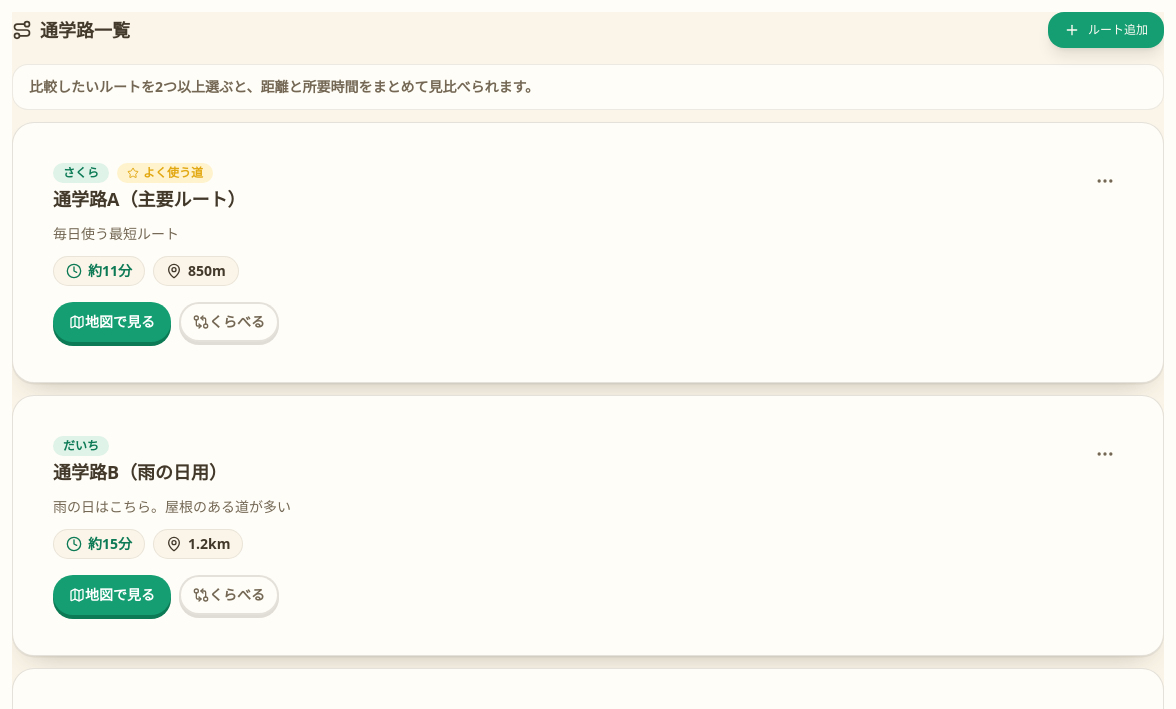
RouteManager comparison › shows a comparison section after selecting two routes
Click the button with test id "compare-route-button".
click(229, 322)  # box x1=179 y1=302 x2=279 y2=342
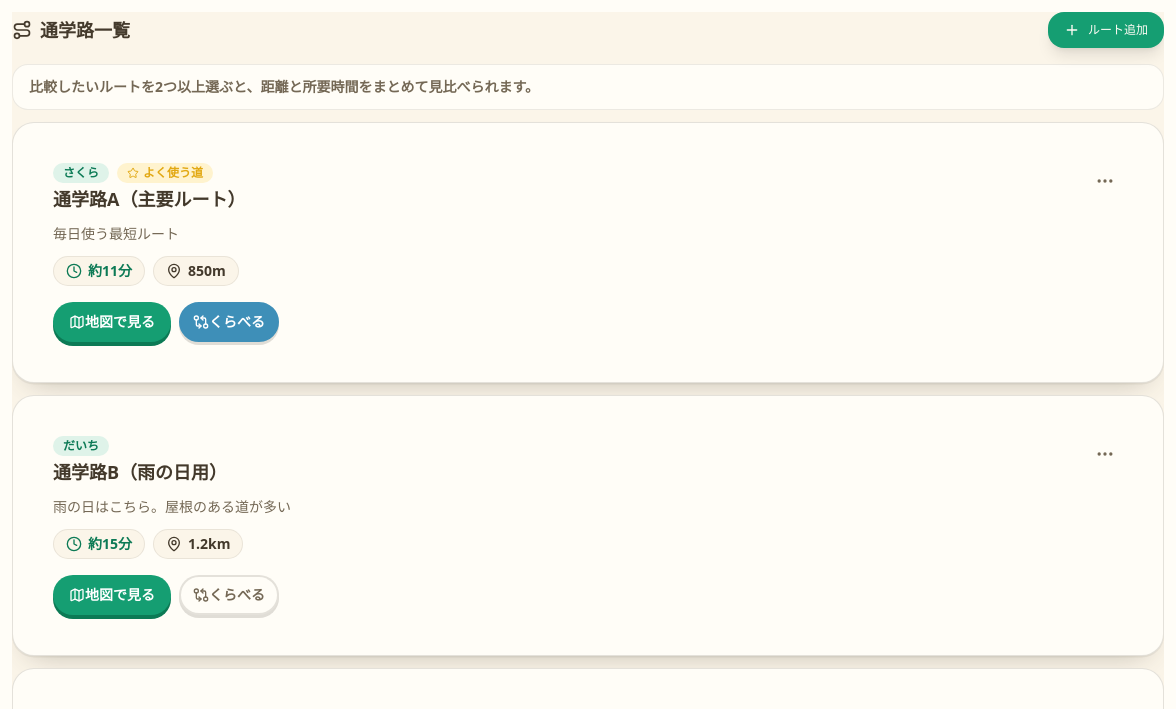
Click the button with test id "compare-route-button".
click(229, 594)  # box x1=179 y1=574 x2=279 y2=614
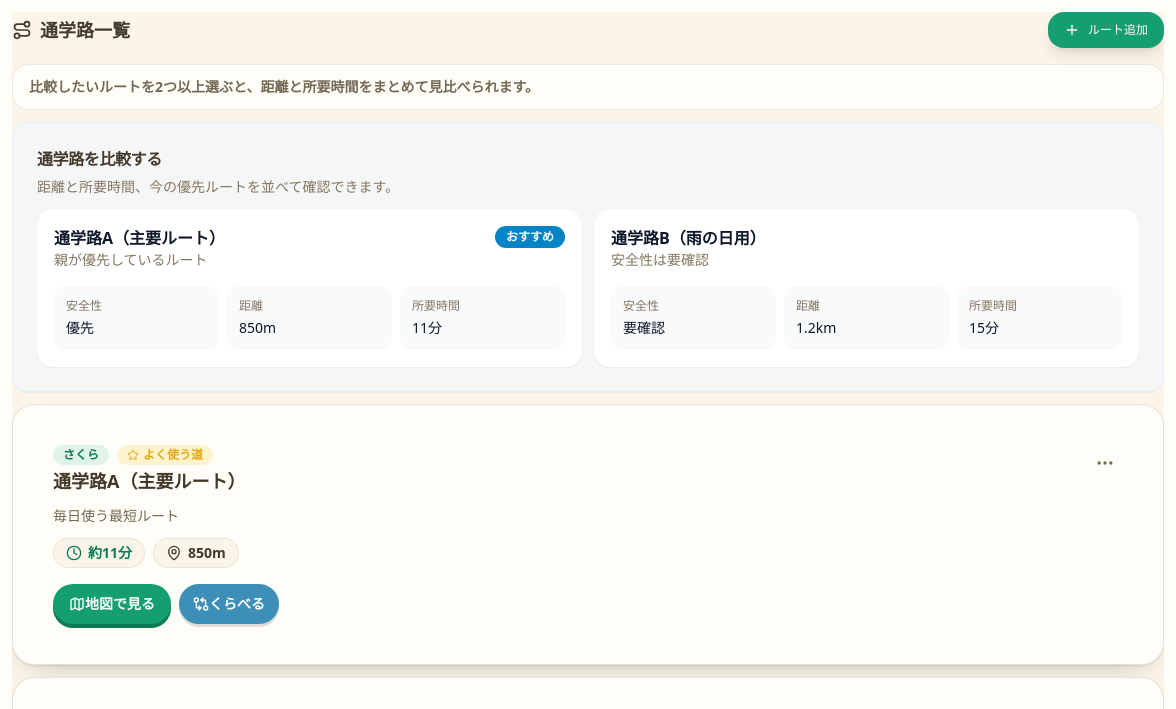
expect the element with test id "route-comparison-table" is shown: met, box x1=12 y1=122 x2=1164 y2=392
expect the text "通学路A（主要ルート）" is shown: met, box x1=54 y1=226 x2=225 y2=250
expect the text "通学路B（雨の日用）" is shown: met, box x1=611 y1=226 x2=766 y2=250
